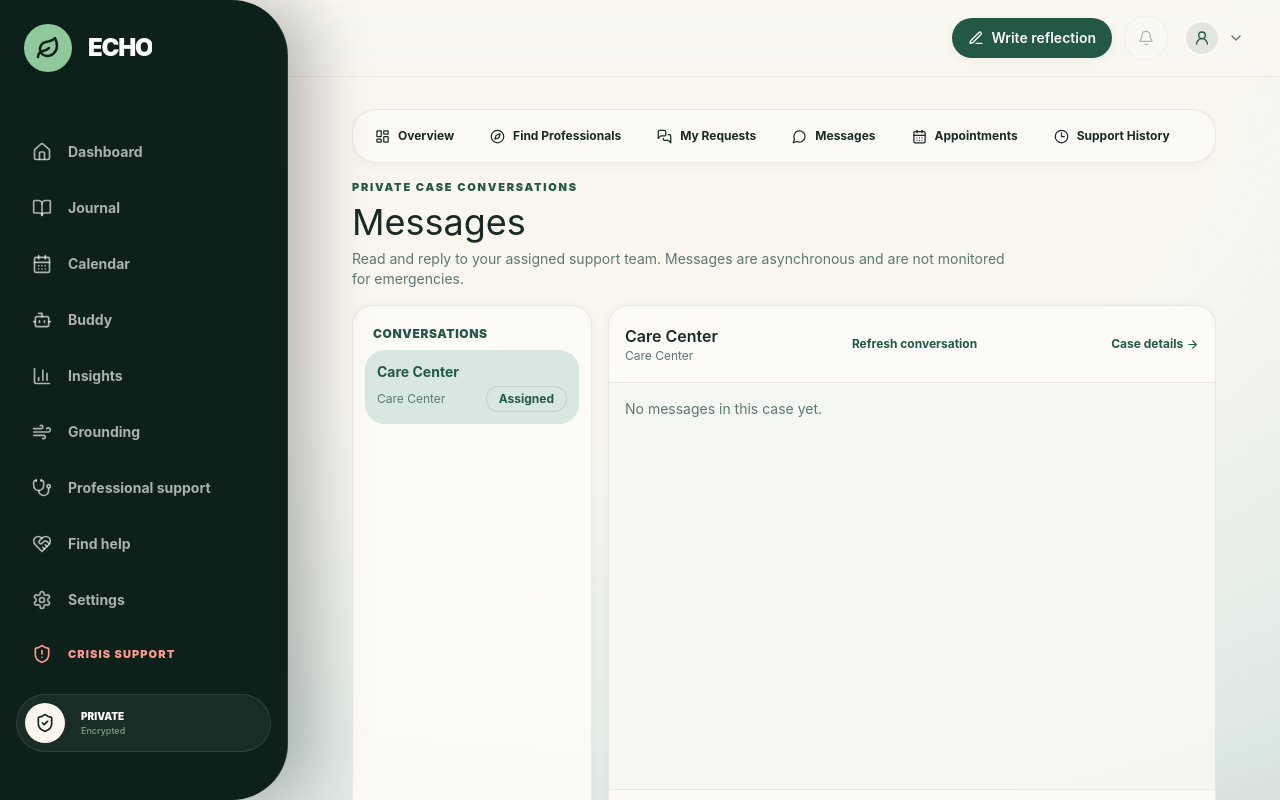
Scenario: user professional support pages › refreshes an incoming reply and the current case status without a page reload
The image size is (1280, 800).
Click the button "Refresh conversation" at (915, 344), box [852,322,977,366]
(page scrolled)
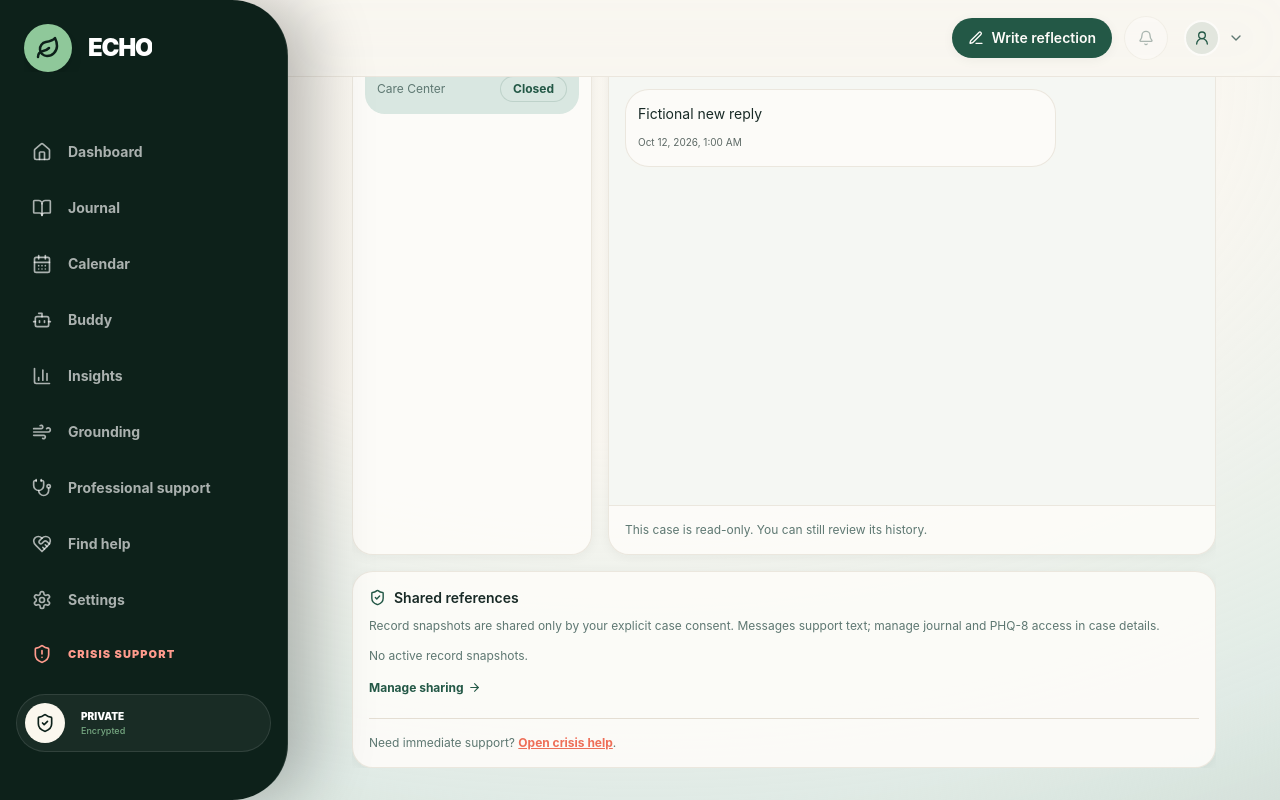
Expected: the text "Fictional new reply" is shown, [638,104,762,122]
Expected: the text "This case is read-only. You can still review its history." is shown, [609,504,1215,554]
